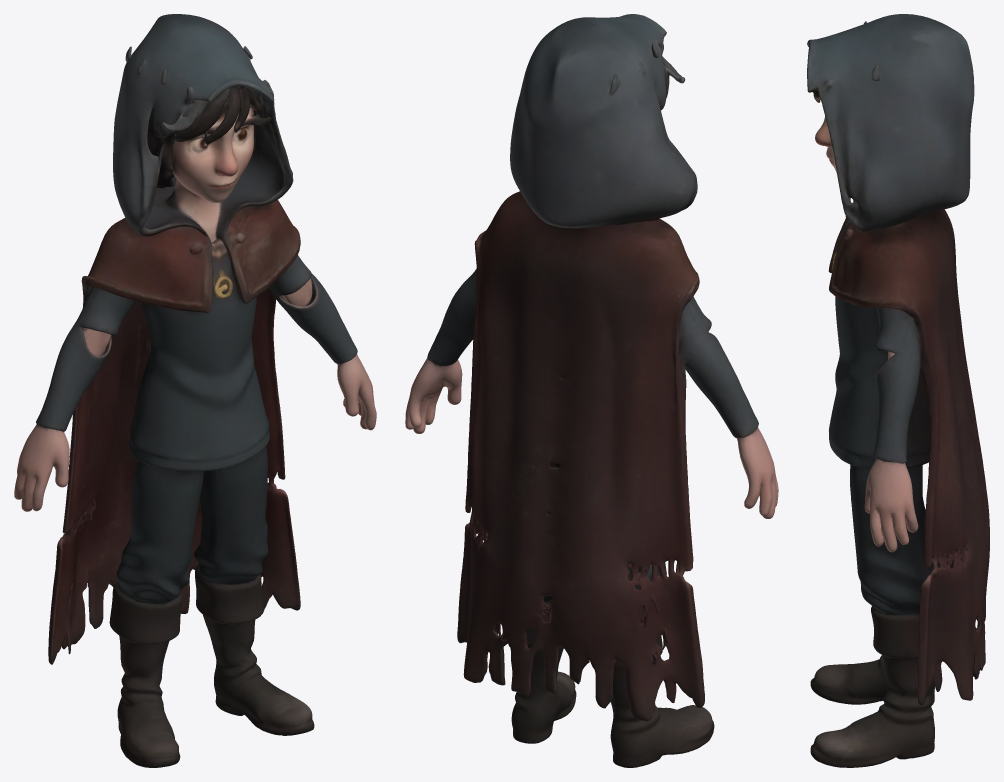
Rendered from mage_trellis.glb.
The picture shows the model from 3 angles, left to right: view 1: azimuth 30°, elevation 25°; view 2: azimuth 150°, elevation 25°; view 3: azimuth 270°, elevation 25°; orthographic projection. The views are drawn at different scales.
Parts seen in each view (by area): view 1: world; view 2: world; view 3: world.
Boxes of the visible parts, x1,y1,x2,y2 form: world: (14,14,376,767); world: (405,14,778,767); world: (807,14,989,767).
Size of the model in its own units: 0.5294 by 1 by 0.235.
1 material, 1 textured.
